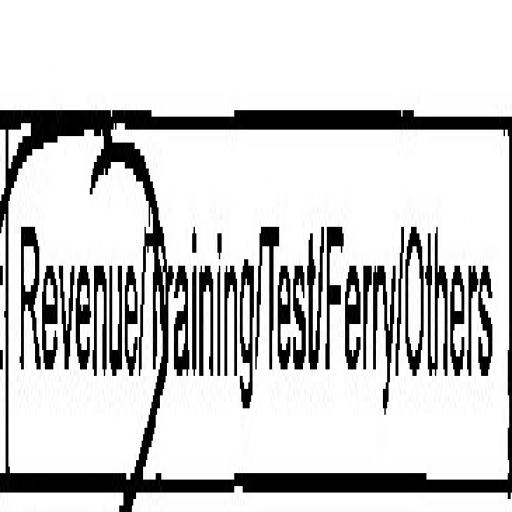check: (3, 0, 146, 512)
